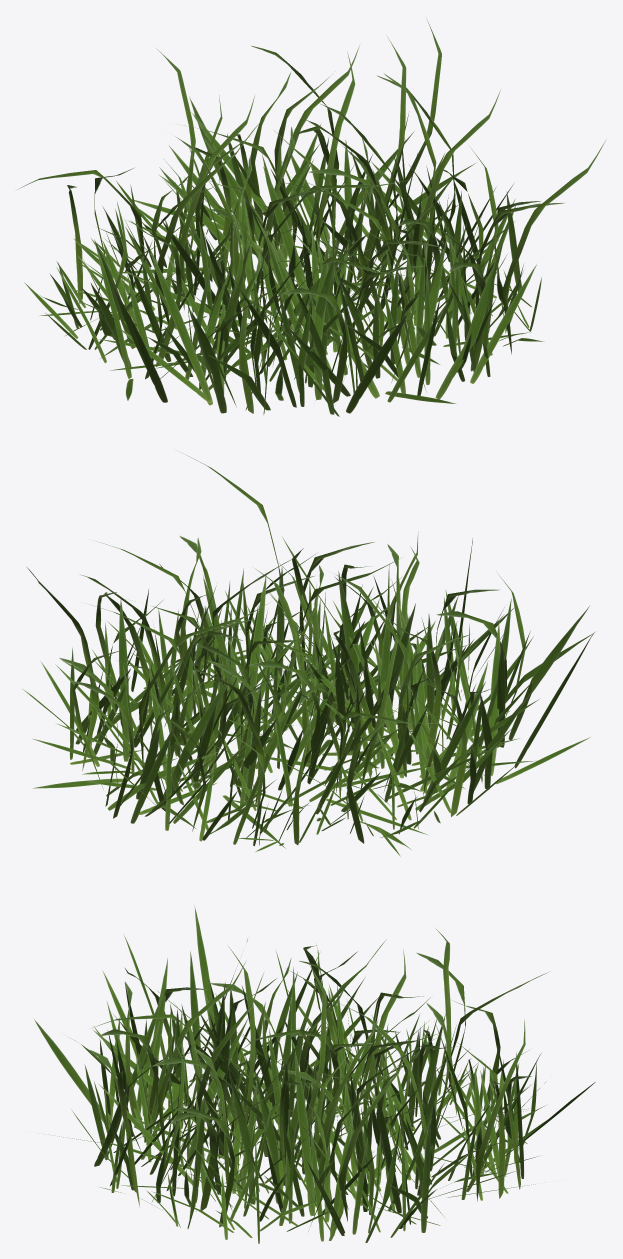
Rendered from Grass_Wild_Clump_02.glb.
3 views of the same model, one above another, from view 1: azimuth 30°, elevation 25°; view 2: azimuth 150°, elevation 25°; view 3: azimuth 270°, elevation 25° (orthographic). The views are drawn at different scales.
Parts seen in each view (by area): view 1: Grass_Wild_Clump_02; view 2: Grass_Wild_Clump_02; view 3: Grass_Wild_Clump_02.
Boxes of the visible parts, x1,y1,x2,y2 form: Grass_Wild_Clump_02: (17, 17, 606, 416); Grass_Wild_Clump_02: (22, 450, 595, 856); Grass_Wild_Clump_02: (34, 905, 595, 1243).
Size of the model in its own units: 0.9173 by 0.4 by 1.01.
1 material, 1 textured.
